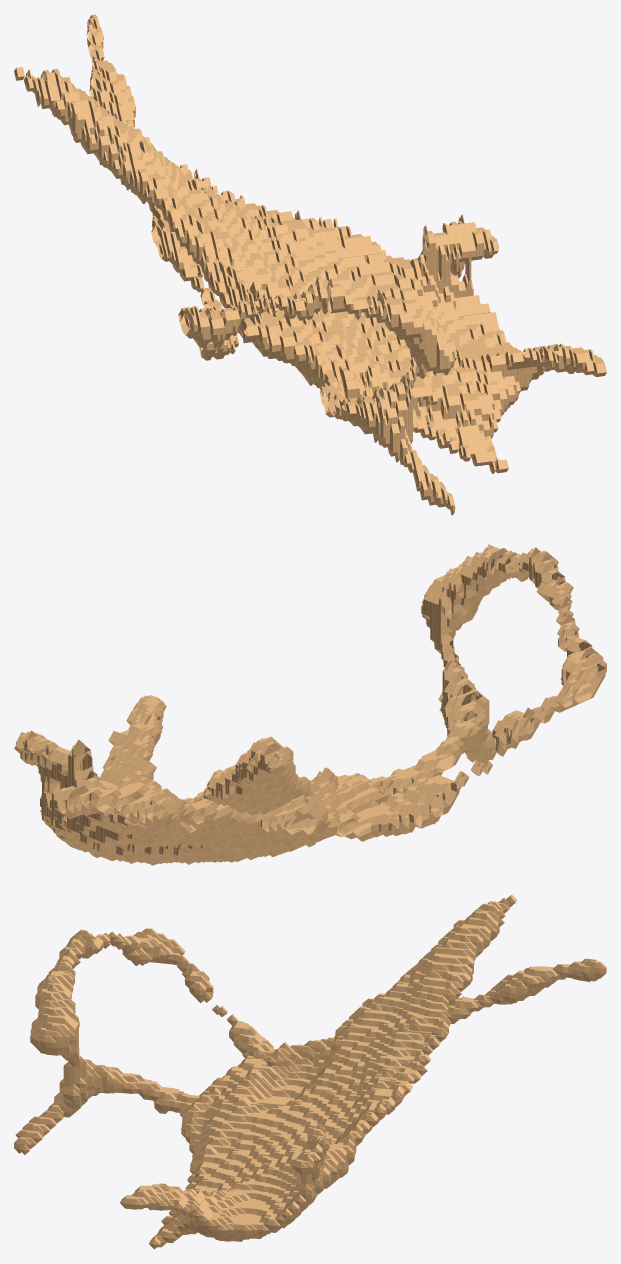
File: SVV_URYVL.gltf
3 views of the same model, one above another, from view 1: azimuth 30°, elevation 25°; view 2: azimuth 150°, elevation 25°; view 3: azimuth 270°, elevation 25° (orthographic). The views are drawn at different scales.
Parts seen in each view (by area): view 1: URYVL; view 2: URYVL; view 3: URYVL.
Part boxes in pixels (x1,y1,x2,y2): URYVL: (14, 14, 606, 515); URYVL: (14, 544, 606, 865); URYVL: (14, 895, 606, 1249).
Bounding box in the file's own units: 43624 × 31666 × 68376.
